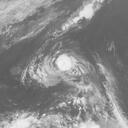cyclone: (54, 51, 76, 77)
